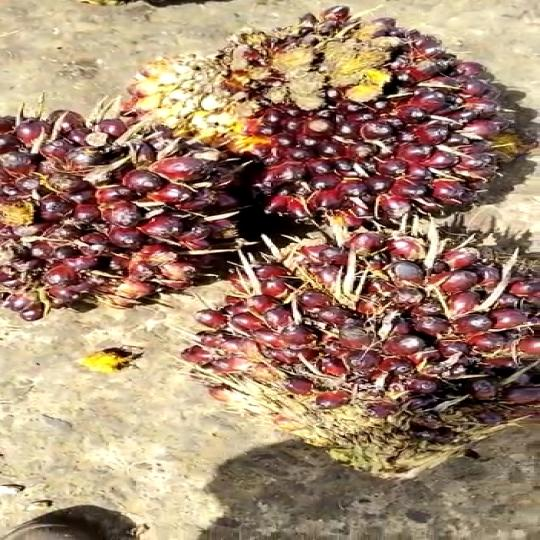kurang masak: (172, 198, 540, 505), (111, 9, 540, 228), (0, 107, 256, 315)
